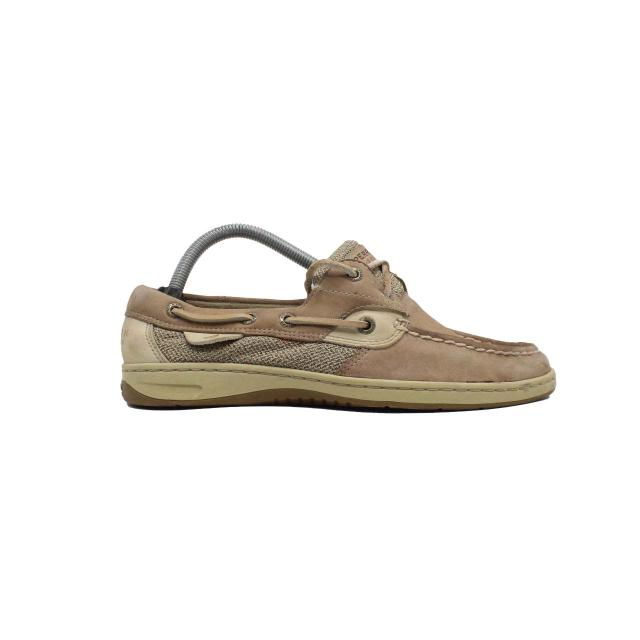heel: (118, 280, 189, 367)
midsole: (121, 363, 554, 412)
uppersole: (186, 240, 554, 386)
